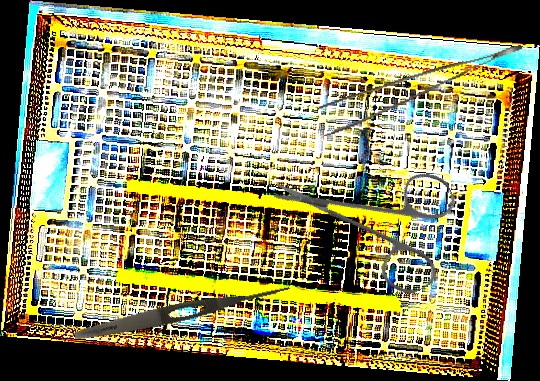Dressing Forceps: (72, 277, 292, 346)
Iris Scissors: (269, 114, 486, 330)
Tissue Forceps: (314, 44, 531, 137)
